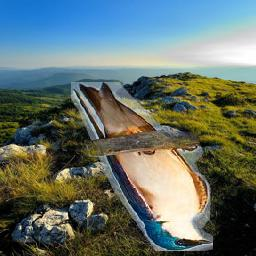Swallow: (71, 83, 213, 252)
